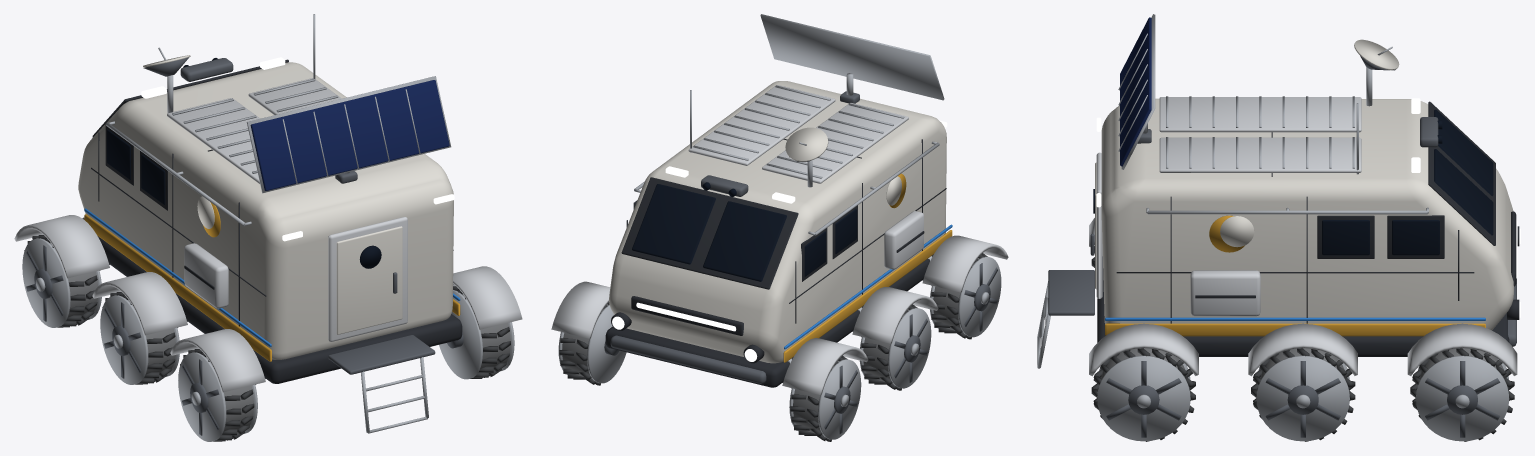
The model's file is rover-crew.glb.
The picture shows the model from 3 angles, left to right: view 1: azimuth 30°, elevation 25°; view 2: azimuth 150°, elevation 25°; view 3: azimuth 270°, elevation 25°; orthographic projection. The views are drawn at different scales.
Visible parts, largest first — view 1: Body, Wheel_RL, Wheel_FL, Wheel_ML, Wheel_RR; view 2: Body, Wheel_FL, Wheel_RL, Wheel_ML, Wheel_FR; view 3: Body, Wheel_FR, Wheel_RR, Wheel_MR.
Part boxes in pixels (x1=…): Body: x1=14, y1=14, x2=522, y2=433; Wheel_RL: x1=178, y1=349, x2=257, y2=441; Wheel_FL: x1=22, y1=235, x2=101, y2=327; Wheel_ML: x1=100, y1=292, x2=179, y2=384; Wheel_RR: x1=439, y1=286, x2=514, y2=379; Body: x1=551, y1=14, x2=1008, y2=395; Wheel_FL: x1=789, y1=355, x2=861, y2=441; Wheel_RL: x1=930, y1=253, x2=1001, y2=339; Wheel_ML: x1=859, y1=304, x2=931, y2=390; Wheel_FR: x1=558, y1=302, x2=626, y2=385; Body: x1=1037, y1=14, x2=1520, y2=376; Wheel_FR: x1=1410, y1=348, x2=1514, y2=441; Wheel_RR: x1=1091, y1=348, x2=1195, y2=441; Wheel_MR: x1=1251, y1=348, x2=1355, y2=441.
Bounding box in the file's own units: 4.6 × 4.39 × 6.22.
